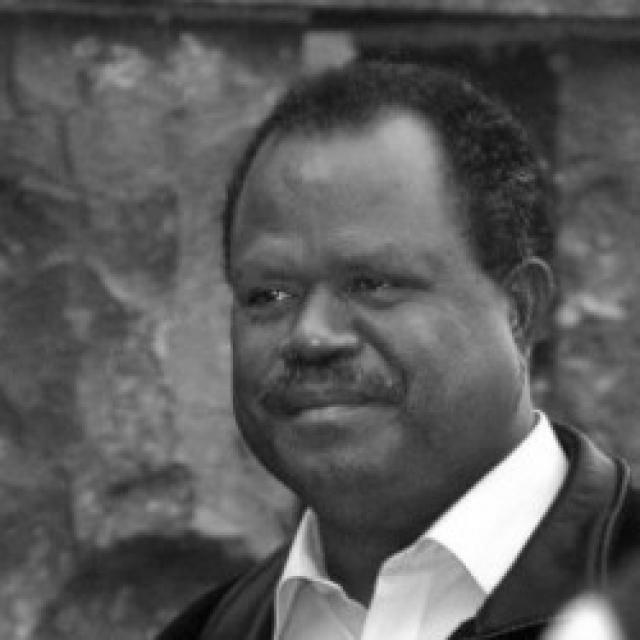real: (218, 124, 532, 508), (233, 265, 444, 325)
